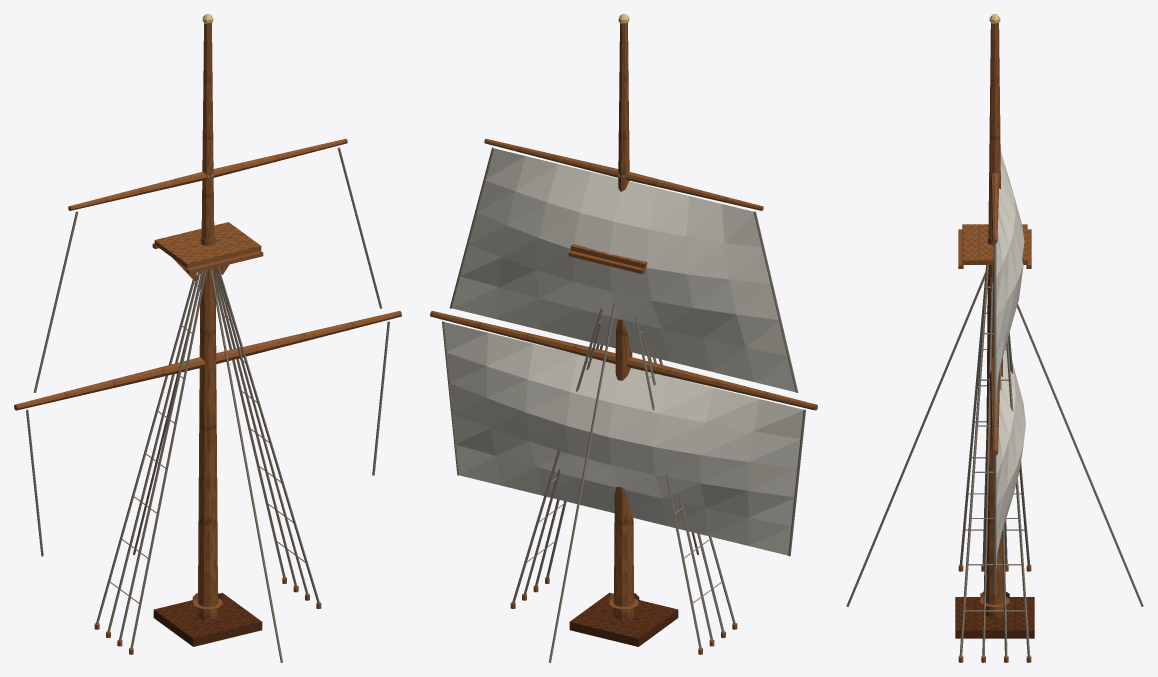
The model's file is pirate-port-and-tall-ships-ship-mast-module-sails-set-6ff8e532__30152.glb.
3 views of the same model, side by side, from view 1: azimuth 30°, elevation 25°; view 2: azimuth 150°, elevation 25°; view 3: azimuth 270°, elevation 25° (orthographic).
Visible parts, largest first — view 1: ship-mast-module-sails-set; view 2: ship-mast-module-sails-set; view 3: ship-mast-module-sails-set.
Part boxes in pixels (x1,y1,x2,y2): ship-mast-module-sails-set: (14, 14, 401, 662); ship-mast-module-sails-set: (430, 14, 817, 662); ship-mast-module-sails-set: (846, 14, 1143, 662).
Bounding box in the file's own units: 7.8 × 11.81 × 5.24.
6 materials, 2 textured.
